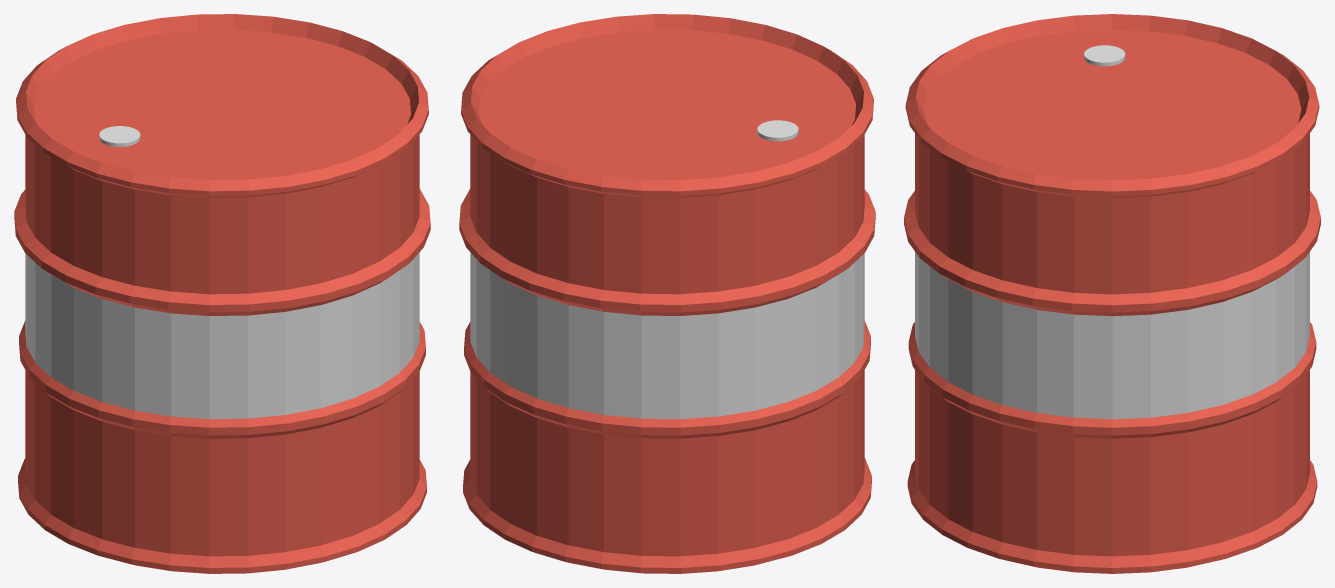
Rendered from Barrel.glb.
The picture shows the model from 3 angles, left to right: view 1: azimuth 30°, elevation 25°; view 2: azimuth 150°, elevation 25°; view 3: azimuth 270°, elevation 25°; orthographic projection.
Visible parts, largest first — view 1: Cylinder; view 2: Cylinder; view 3: Cylinder.
Boxes of the visible parts, <box> form: Cylinder: <box>14,14,430,573</box>; Cylinder: <box>459,14,875,573</box>; Cylinder: <box>904,14,1320,573</box>.
Size of the model in its own units: 1.05 by 1.1 by 1.05.
